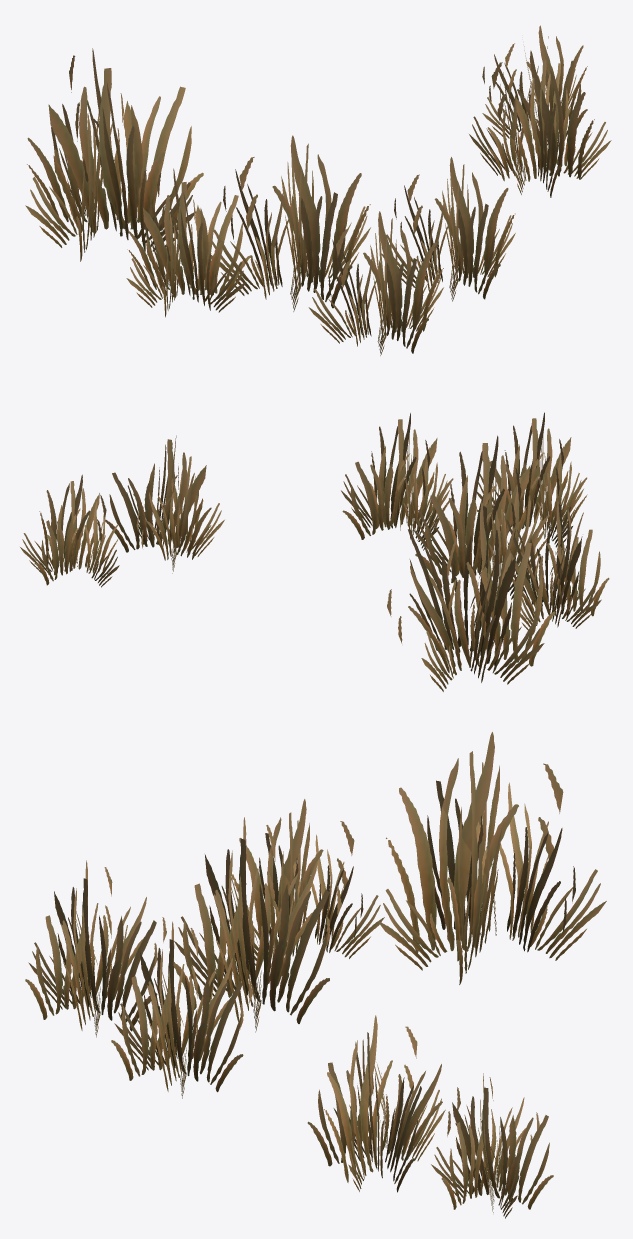
The model's file is Area_14_19.fbx.
The picture shows the model from 3 angles, top to bottom: view 1: azimuth 30°, elevation 25°; view 2: azimuth 150°, elevation 25°; view 3: azimuth 270°, elevation 25°; orthographic projection. The views are drawn at different scales.
Visible parts, largest first — view 1: Area_14_19; view 2: Area_14_19; view 3: Area_14_19.
Boxes of the visible parts, x1,y1,x2,y2 form: Area_14_19: (25,25,611,355); Area_14_19: (20,412,609,691); Area_14_19: (25,732,606,1218).
Bounding box in the file's own units: 1180 × 400 × 936.
Materials: 1 (1 with a texture image).
